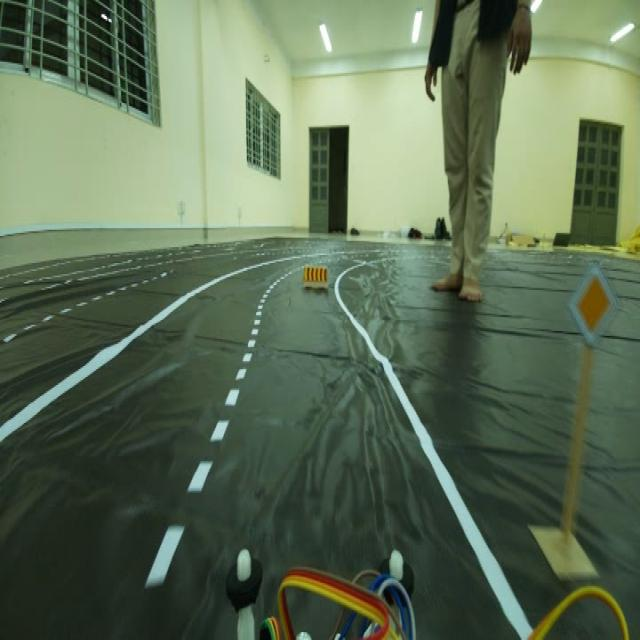priority: (566, 251, 620, 353)
roadblock: (300, 258, 334, 306)
